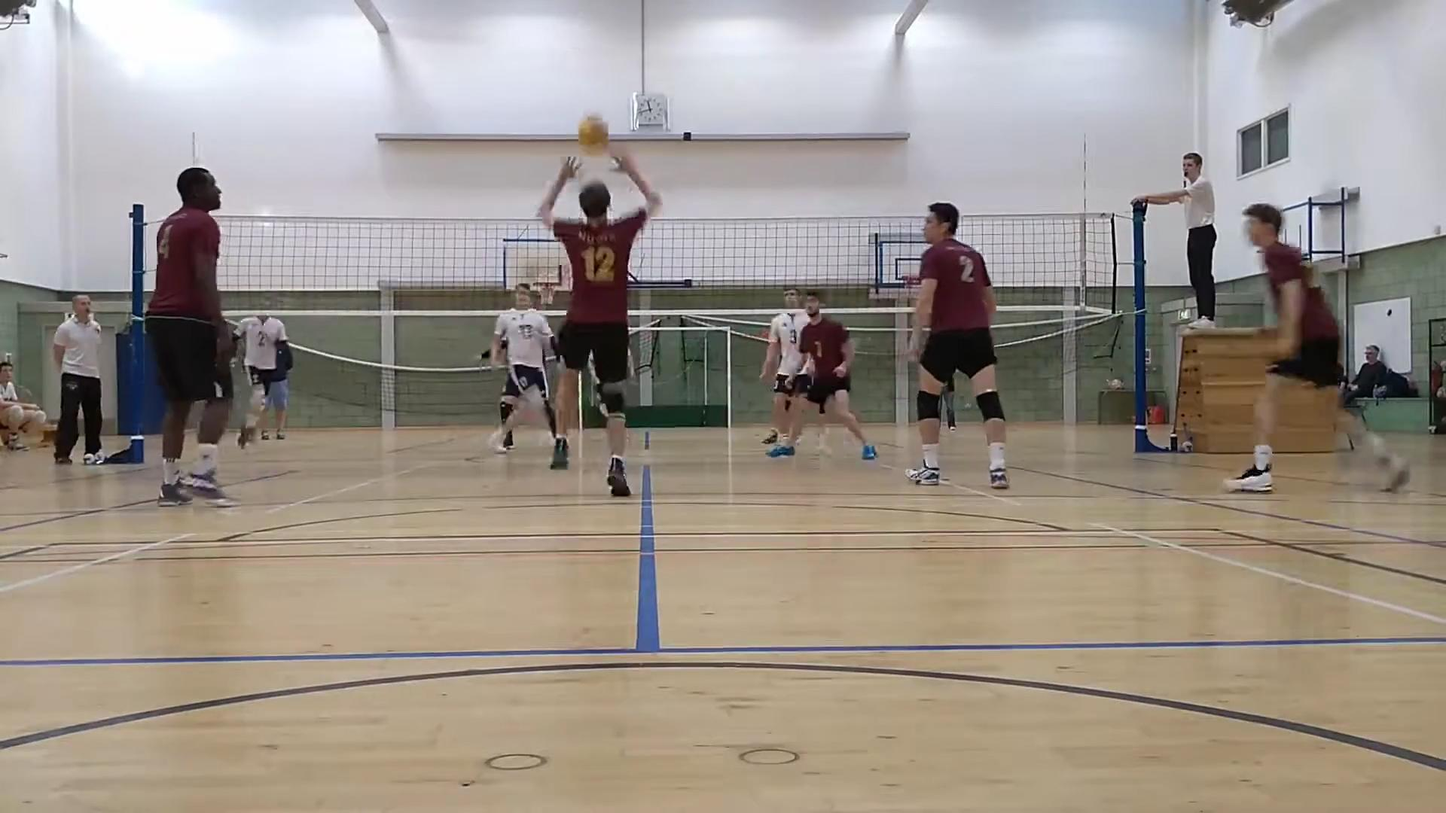Dig: (525, 150, 662, 492)
Player: (1225, 203, 1340, 492), (145, 168, 234, 505), (907, 202, 1008, 488), (490, 285, 565, 467), (800, 291, 876, 459), (760, 288, 810, 444), (235, 314, 288, 447)
ball: (576, 116, 619, 152)
